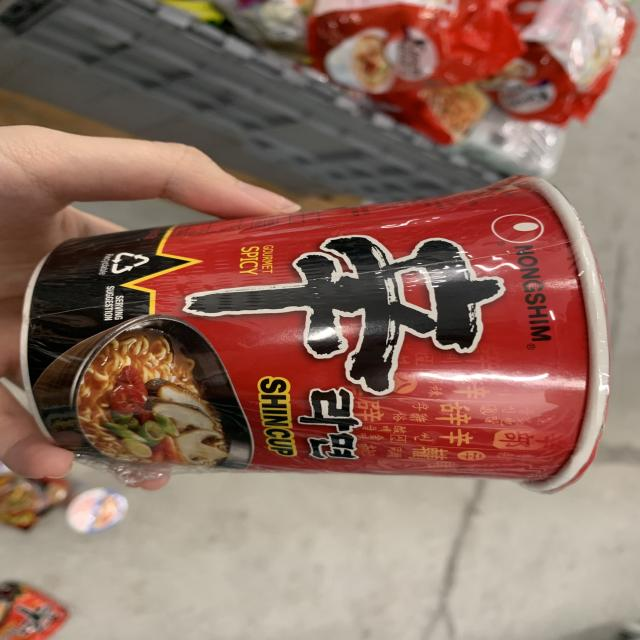object_name: (43, 196, 590, 471)
